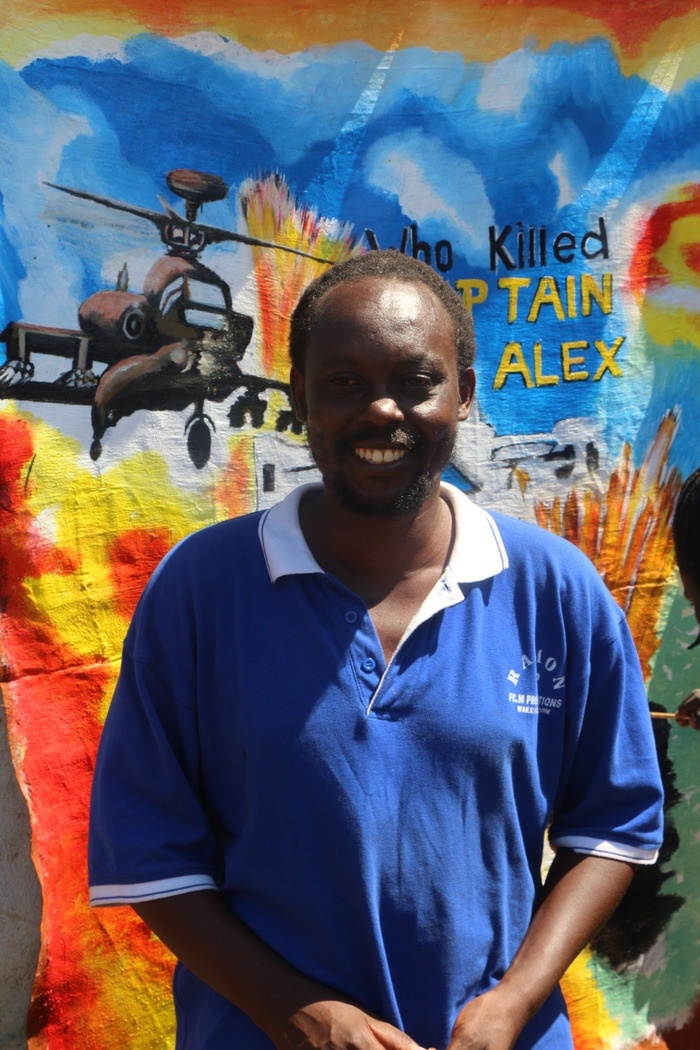mouth: (346, 440, 413, 474)
nose: (355, 405, 405, 429)
